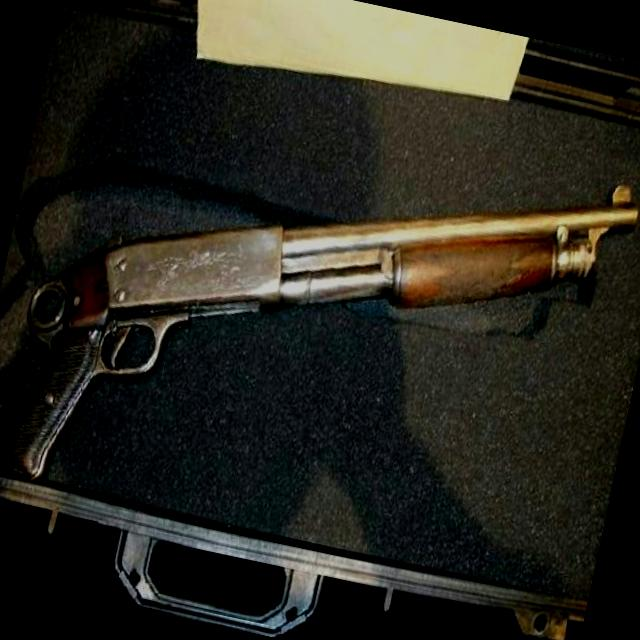shotgun: (0, 29, 640, 598)
